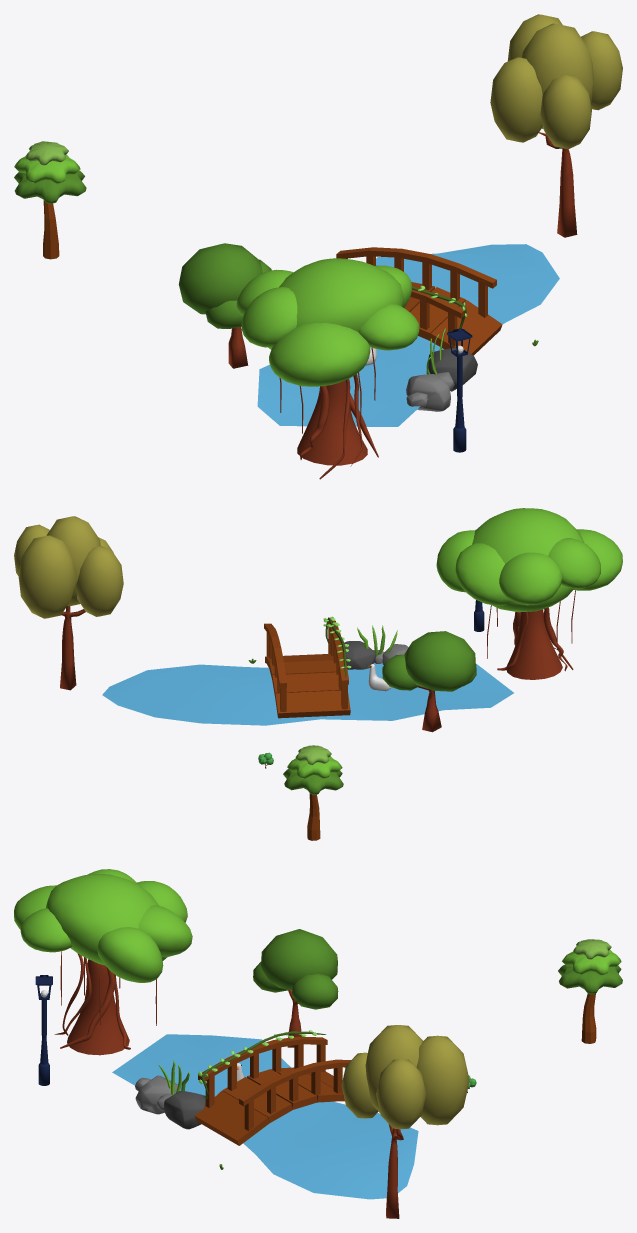
The model's file is Natural merged asset.fbx.
The picture shows the model from 3 angles, top to bottom: view 1: azimuth 30°, elevation 25°; view 2: azimuth 150°, elevation 25°; view 3: azimuth 270°, elevation 25°; orthographic projection. The views are drawn at different scales.
Parts seen in each view (by area): view 1: Banyan, Tree3, lake, Bridge, Tree2, Tree1, Lamp, rock 1, rock 2; view 2: Banyan, lake, Tree3, Bridge, Tree2, Tree1, rock 2, Vine; view 3: Banyan, lake, Tree3, Bridge, Tree2, Tree1, rock 2, Lamp, rock 1, Vine.
Part boxes in pixels (x1,y1,x2,y2): Banyan: (236,258,419,479); Tree3: (490,14,622,237); lake: (257,244,559,426); Bridge: (336,247,502,355); Tree2: (178,243,271,368); Tree1: (14,141,86,259); Lamp: (447,328,472,452); rock 1: (406,374,450,411); rock 2: (426,347,477,391); Banyan: (436,508,622,679); lake: (102,662,513,725); Tree3: (14,516,123,690); Bridge: (264,620,350,718); Tree2: (382,631,476,732); Tree1: (283,745,343,840); rock 2: (344,641,375,669); Vine: (323,616,351,677); Banyan: (14,869,192,1055); lake: (112,1034,418,1199); Tree3: (341,1025,469,1218); Bridge: (195,1036,350,1145); Tree2: (253,929,338,1047); Tree1: (558,939,622,1043); rock 2: (164,1091,205,1129); Lamp: (35,975,52,1085); rock 1: (135,1075,177,1114); Vine: (198,1030,326,1098).
Bounding box in the file's own units: 273 × 109 × 300.
